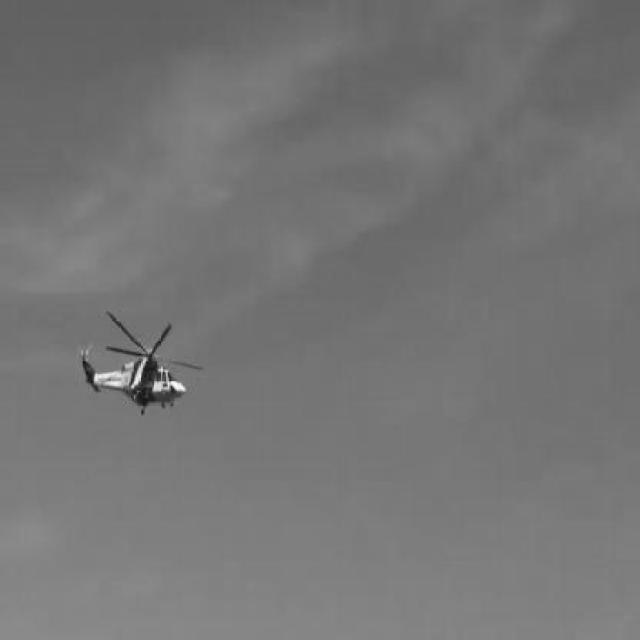helikopter: (79, 313, 204, 416)
